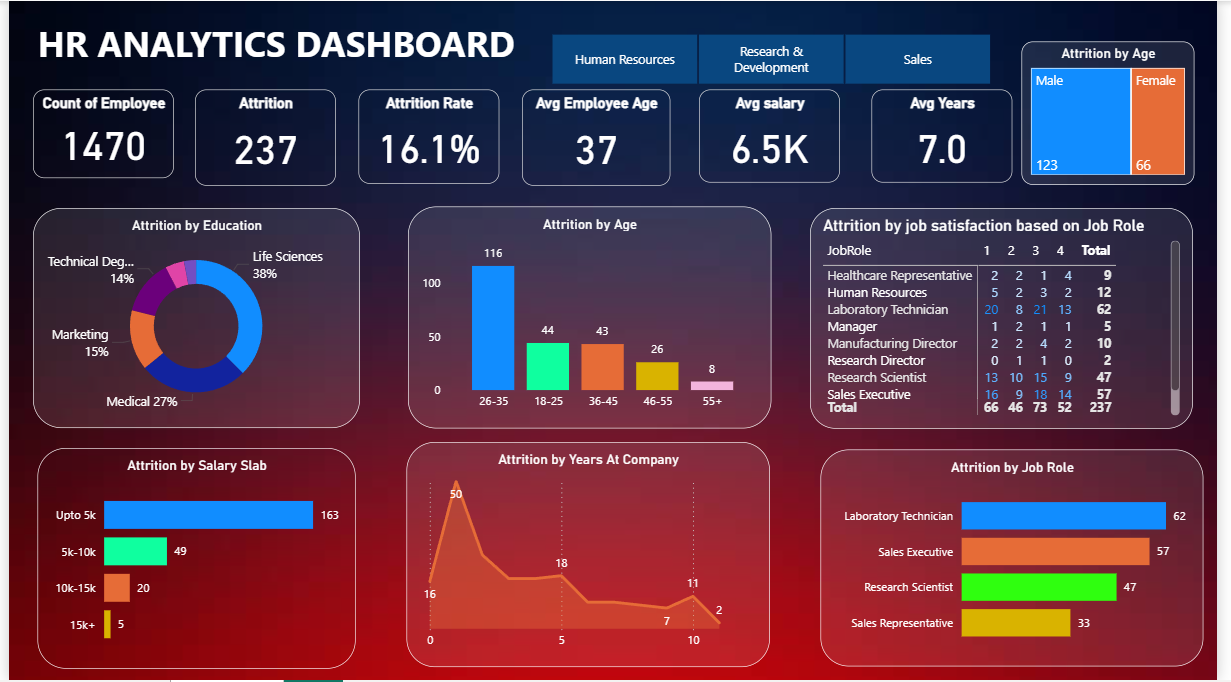

The dashboard page shown, as its layout file describes it:
{"tool":"powerbi","page":{"name":"Page 1","canvas":[1280,720],"ordinal":0},"visuals":[{"type":"card","title":"Count of Employee","fields":{"Values":["CountNonNull(HR_Analytics.EmpID)"]},"box":[25,113.3,150,75],"z":0},{"type":"card","title":"Attrition","fields":{"Values":["Sum(HR_Analytics.AttritionCount)"]},"box":[196.7,113.3,150,81.7],"z":1000},{"type":"card","title":"Attrition Rate ","fields":{"Values":["HR_Analytics.AttritionRate"]},"box":[370,113.3,150,80],"z":2000},{"type":"card","title":"Avg Employee Age ","fields":{"Values":["Avg(HR_Analytics.Age)"]},"box":[543.3,113.3,158.3,81.7],"z":3000},{"type":"card","title":"Avg salary","fields":{"Values":["Avg(HR_Analytics.MonthlyIncome)"]},"box":[731.7,113.3,150,86.7],"z":4000},{"type":"card","title":"Avg Years","fields":{"Values":["Avg(HR_Analytics.YearsAtCompany)"]},"box":[908.3,113.3,150,80],"z":5000},{"type":"donutChart","title":"Attrition by Education","fields":{"Category":["HR_Analytics.EducationField"],"Y":["Sum(HR_Analytics.AttritionCount)"]},"box":[25,220,346.7,233.3],"z":6000},{"type":"columnChart","title":"Attrition by Age","fields":{"Category":["HR_Analytics.AgeGroup"],"Y":["Sum(HR_Analytics.AttritionCount)"]},"box":[423.3,218.3,385,235],"z":7000},{"type":"barChart","title":"Attrition by Salary Slab","fields":{"Category":["HR_Analytics.SalarySlab"],"Y":["Sum(HR_Analytics.AttritionCount)"]},"box":[29.4,474,337.2,233.8],"z":8000},{"type":"areaChart","title":"Attrition by Years At Company ","fields":{"Category":["HR_Analytics.YearsAtCompany"],"Y":["Sum(HR_Analytics.AttritionCount)"]},"box":[421.7,468.2,385,238.3],"z":9000},{"type":"barChart","title":"Attrition by Job Role","fields":{"Category":["HR_Analytics.JobRole"],"Y":["Sum(HR_Analytics.AttritionCount)"]},"box":[860,476,406,230],"z":10000},{"type":"pivotTable","title":"Attrition by job satisfaction based on Job Role","fields":{"Rows":["HR_Analytics.JobRole"],"Columns":["HR_Analytics.JobSatisfaction"],"Values":["Sum(HR_Analytics.AttritionCount)"]},"box":[850,220,406,234],"z":11000},{"type":"treemap","title":"Attrition by Age","fields":{"Group":["HR_Analytics.Gender"],"Values":["Sum(HR_Analytics.AttritionCount)"]},"box":[1073.3,43.3,183.3,151.7],"z":12000},{"type":"slicer","title":"Attrition by Salary Slab","fields":{"Values":["HR_Analytics.Department"]},"box":[550,14,514,80],"z":13000},{"type":"textbox","box":[25,28.3,500,65],"z":14000}]}

Visuals, with their boxes in screenshot pixels (x1, y1, x2, y2), scaled from the page's 1280x720 canvas onto the 1231x682 screenshot:
"Count of Employee" card: region(24, 107, 168, 178)
"Attrition" card: region(189, 107, 333, 185)
"Attrition Rate " card: region(356, 107, 500, 183)
"Avg Employee Age " card: region(523, 107, 675, 185)
"Avg salary" card: region(704, 107, 848, 189)
"Avg Years" card: region(874, 107, 1018, 183)
"Attrition by Education" donutChart: region(24, 208, 357, 429)
"Attrition by Age" columnChart: region(407, 207, 777, 429)
"Attrition by Salary Slab" barChart: region(28, 449, 353, 670)
"Attrition by Years At Company " areaChart: region(406, 443, 776, 669)
"Attrition by Job Role" barChart: region(827, 451, 1218, 669)
"Attrition by job satisfaction based on Job Role" pivotTable: region(817, 208, 1208, 430)
"Attrition by Age" treemap: region(1032, 41, 1208, 185)
"Attrition by Salary Slab" slicer: region(529, 13, 1023, 89)
textbox: region(24, 27, 505, 88)
